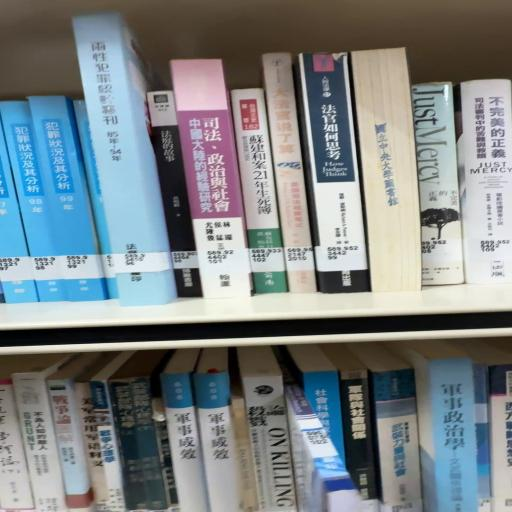backward: (349, 49, 420, 294)
book: (174, 63, 255, 303), (299, 53, 373, 298), (265, 56, 322, 300), (226, 90, 287, 301), (459, 83, 512, 291), (415, 78, 465, 284), (370, 368, 420, 512)
